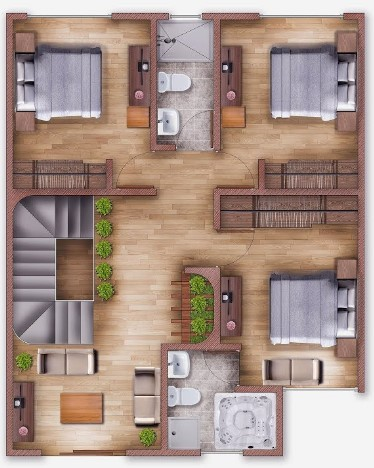room: (2, 187, 168, 460), (213, 187, 366, 394), (4, 5, 160, 199), (211, 7, 365, 195), (160, 344, 283, 459), (147, 11, 224, 154)
